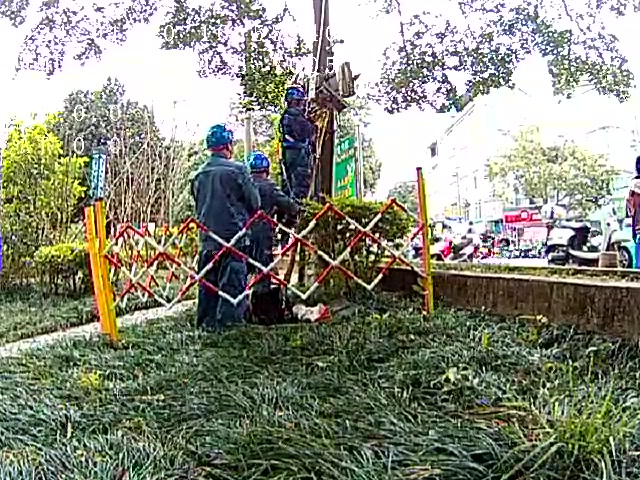halt: (207, 126, 238, 158), (252, 156, 275, 182), (287, 90, 309, 110)
